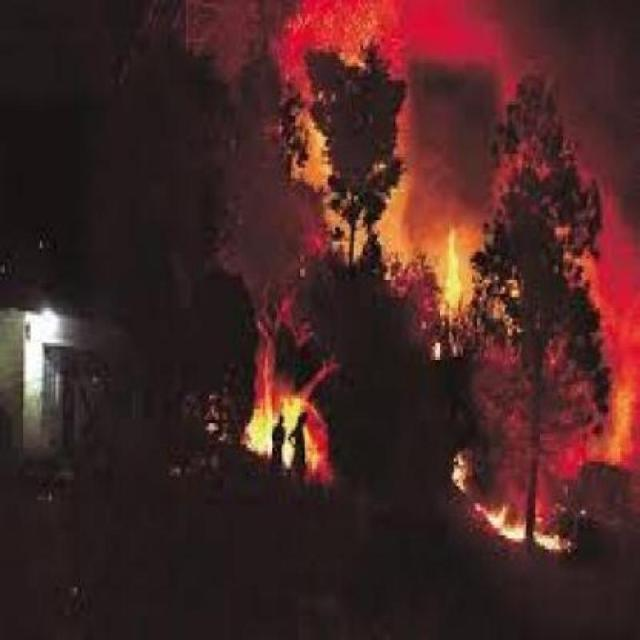Fire: (437, 440, 585, 572), (226, 335, 344, 500), (382, 203, 476, 343), (583, 334, 640, 469)
